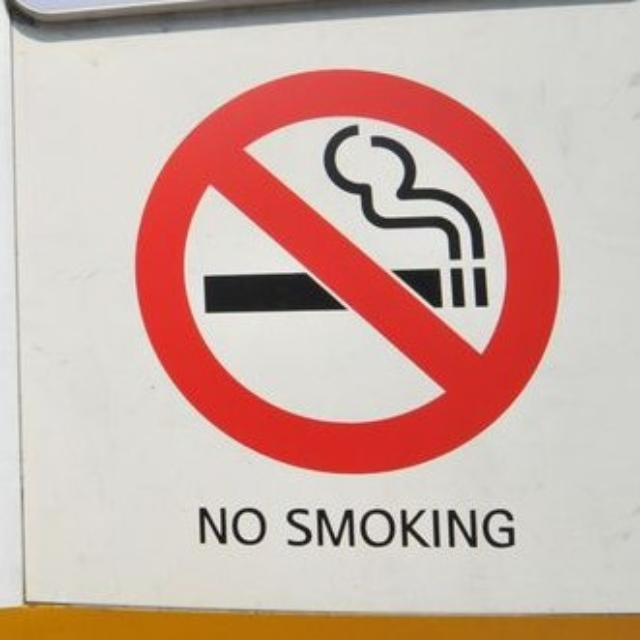cam hut thuoc: (14, 0, 638, 613)
